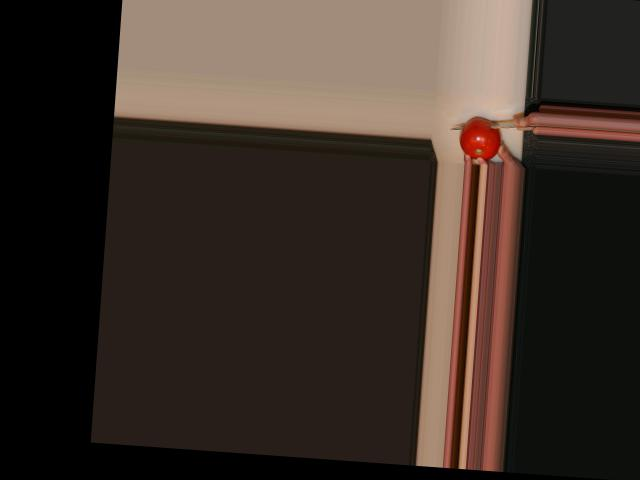tomato: (457, 116, 501, 161)
